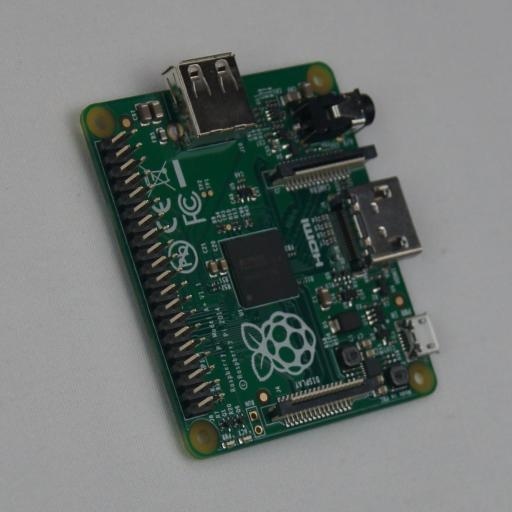Raspberry Pi A-: (77, 52, 437, 460)
